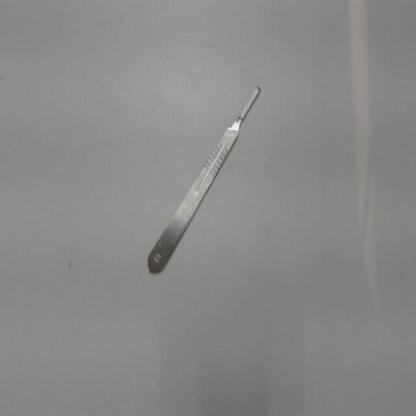No.4 BP Handle: (137, 76, 269, 287)
